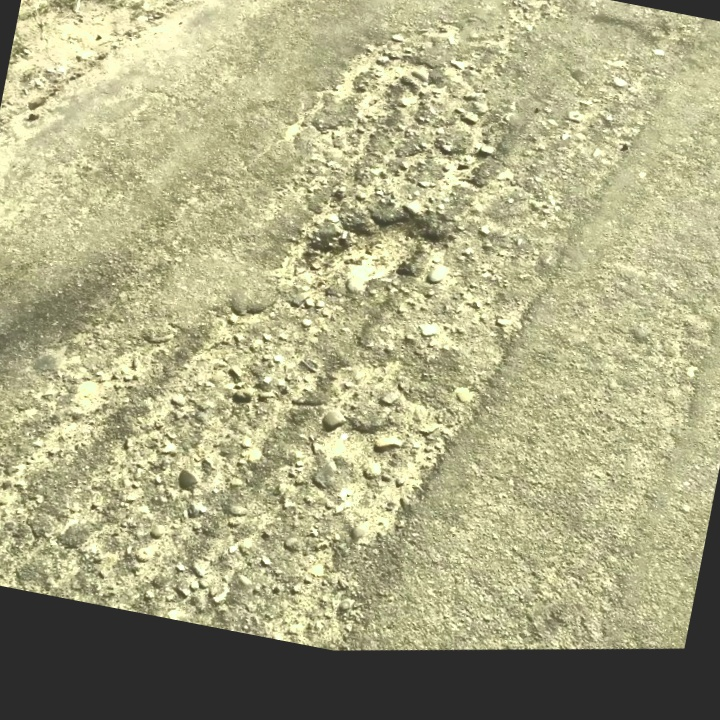pothole: (296, 185, 459, 309)
